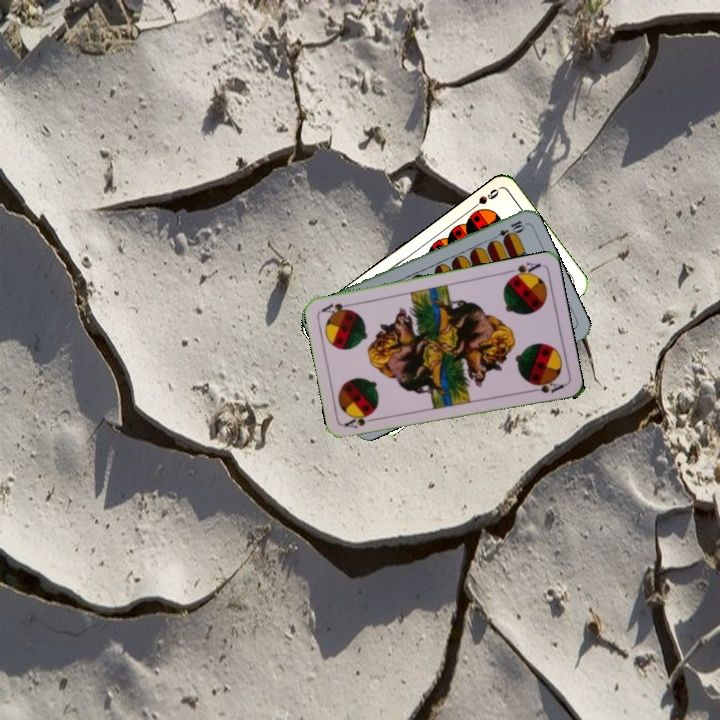E10: (488, 216, 527, 244)
S9: (466, 184, 502, 213)
SA: (503, 258, 543, 282), (341, 414, 381, 431)
